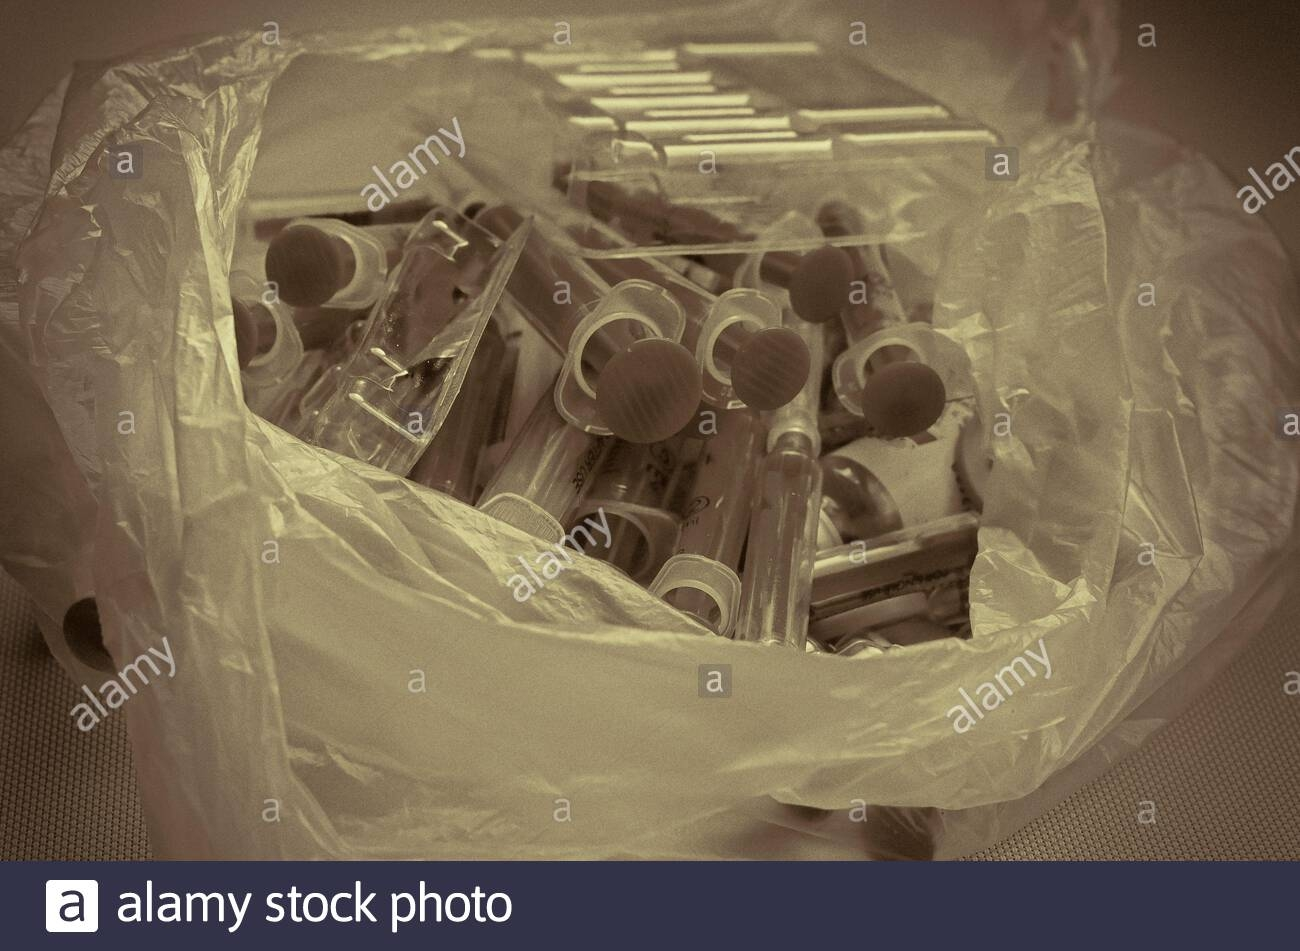plastic: (646, 298, 836, 652), (306, 192, 538, 476), (480, 188, 713, 455), (568, 207, 806, 436), (810, 178, 959, 455)
